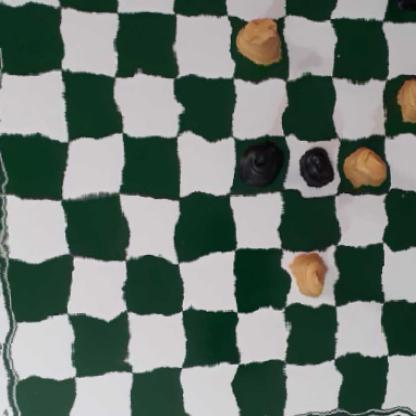black-king: (232, 138, 284, 188)
black-pawn: (297, 144, 333, 189)
black-rook: (388, 0, 416, 8)
white-bishop: (342, 145, 388, 190)
white-king: (284, 246, 329, 298)
white-pawn: (391, 79, 416, 126)
white-rook: (235, 15, 287, 72)
